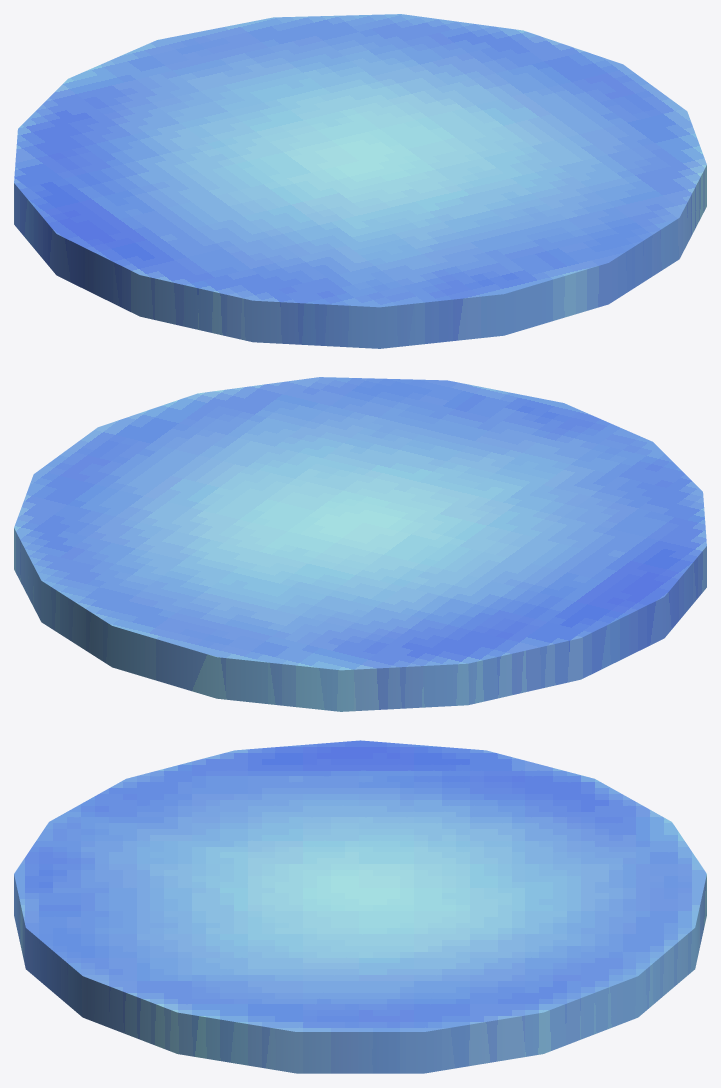
The model's file is ui_camera.fbx.
3 views of the same model, one above another, from view 1: azimuth 30°, elevation 25°; view 2: azimuth 150°, elevation 25°; view 3: azimuth 270°, elevation 25° (orthographic).
Parts seen in each view (by area): view 1: mesh_node; view 2: mesh_node; view 3: mesh_node.
Part boxes in pixels (bbox=[...]): mesh_node: bbox=[14, 14, 706, 348]; mesh_node: bbox=[14, 377, 706, 711]; mesh_node: bbox=[14, 740, 706, 1073].
Bounding box in the file's own units: 0.8841 × 0.0587 × 0.8879.
1 material, 1 textured.
